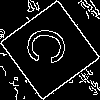C: (25, 25, 76, 69)
